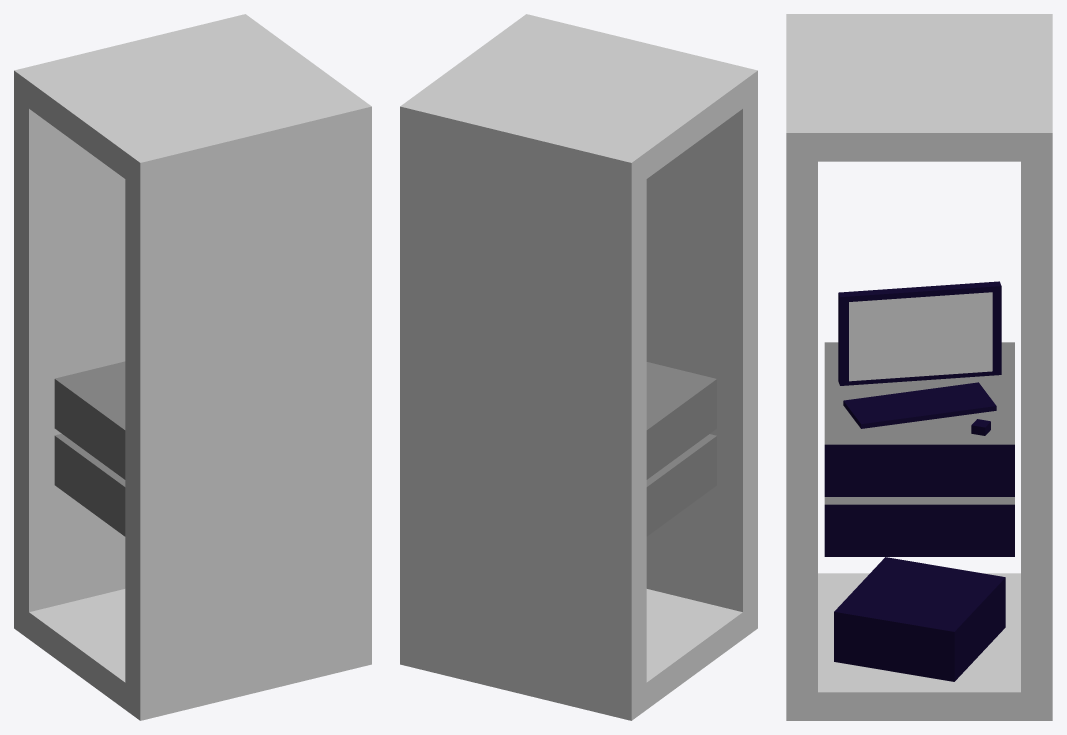
File: computerBox.fbx
The picture shows the model from 3 angles, left to right: view 1: azimuth 30°, elevation 25°; view 2: azimuth 150°, elevation 25°; view 3: azimuth 270°, elevation 25°; orthographic projection. The views are drawn at different scales.
Visible parts, largest first — view 1: computerBox; view 2: computerBox; view 3: computerBox.
Part boxes in pixels (box(x1,y1,x2,y2)): computerBox: box(14, 14, 371, 720); computerBox: box(400, 14, 757, 720); computerBox: box(786, 14, 1052, 720).
Size of the model in its own units: 11.26 by 25.94 by 10.65.
